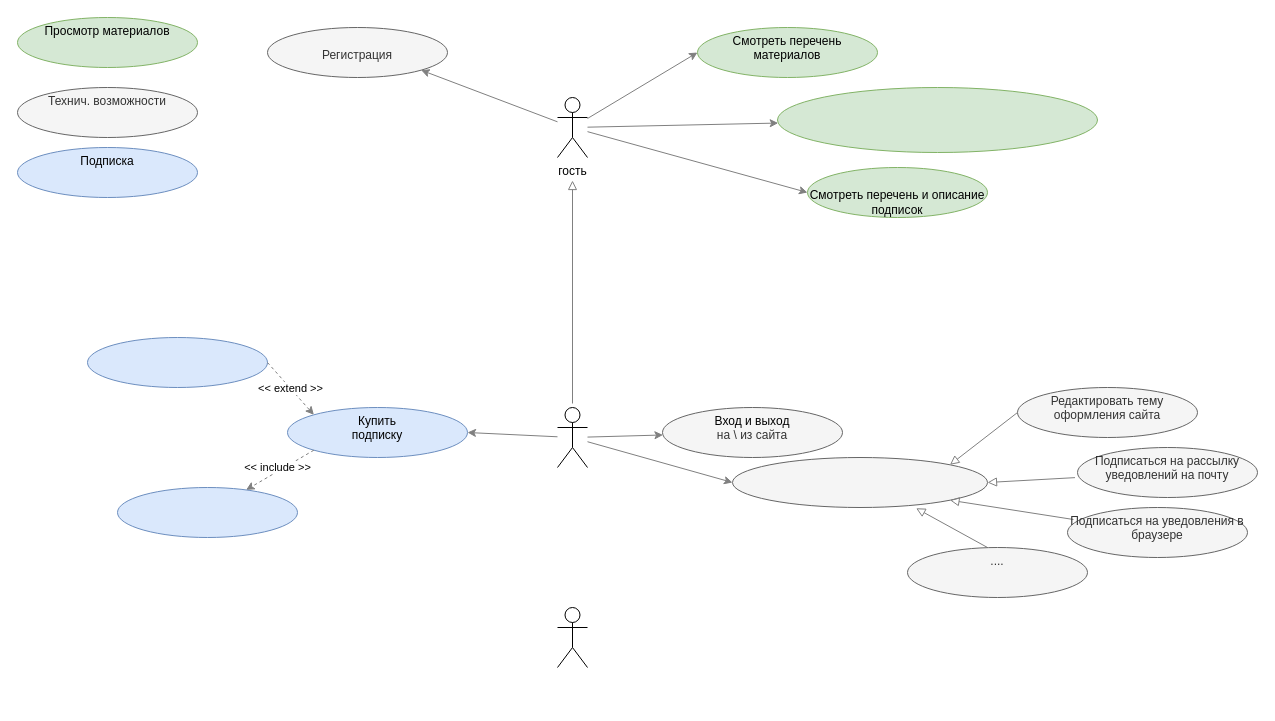
Image size: 1275x721. Some labels were removed from this diagram. Here are the shapes that lost their labels. From the top down, the box of each, then its label:
(776, 86, 1098, 152): Смотреть конкретные материалы (тесты, описание дорож. знаков, ПДД, ... )
(86, 336, 268, 388): Включит автоматическое продление подписки
(556, 406, 588, 468): зарег. пользователь
(732, 456, 988, 508): Редактировать настройки сайта и данные профиля
(116, 486, 298, 538): Оставить данные банковской карты
(556, 606, 588, 668): пользователь с подпиской
